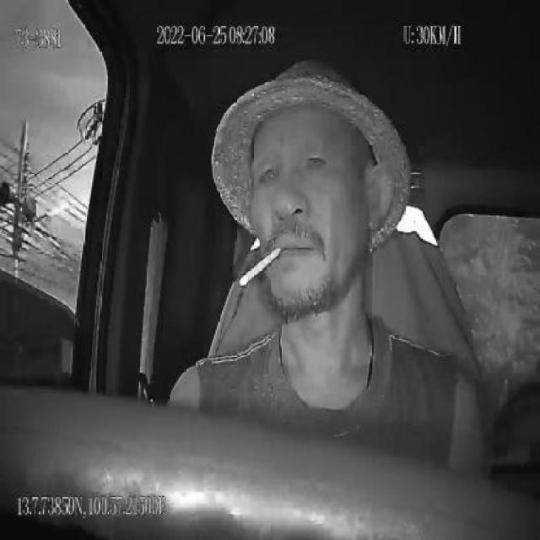smoking: (239, 246, 282, 290)
